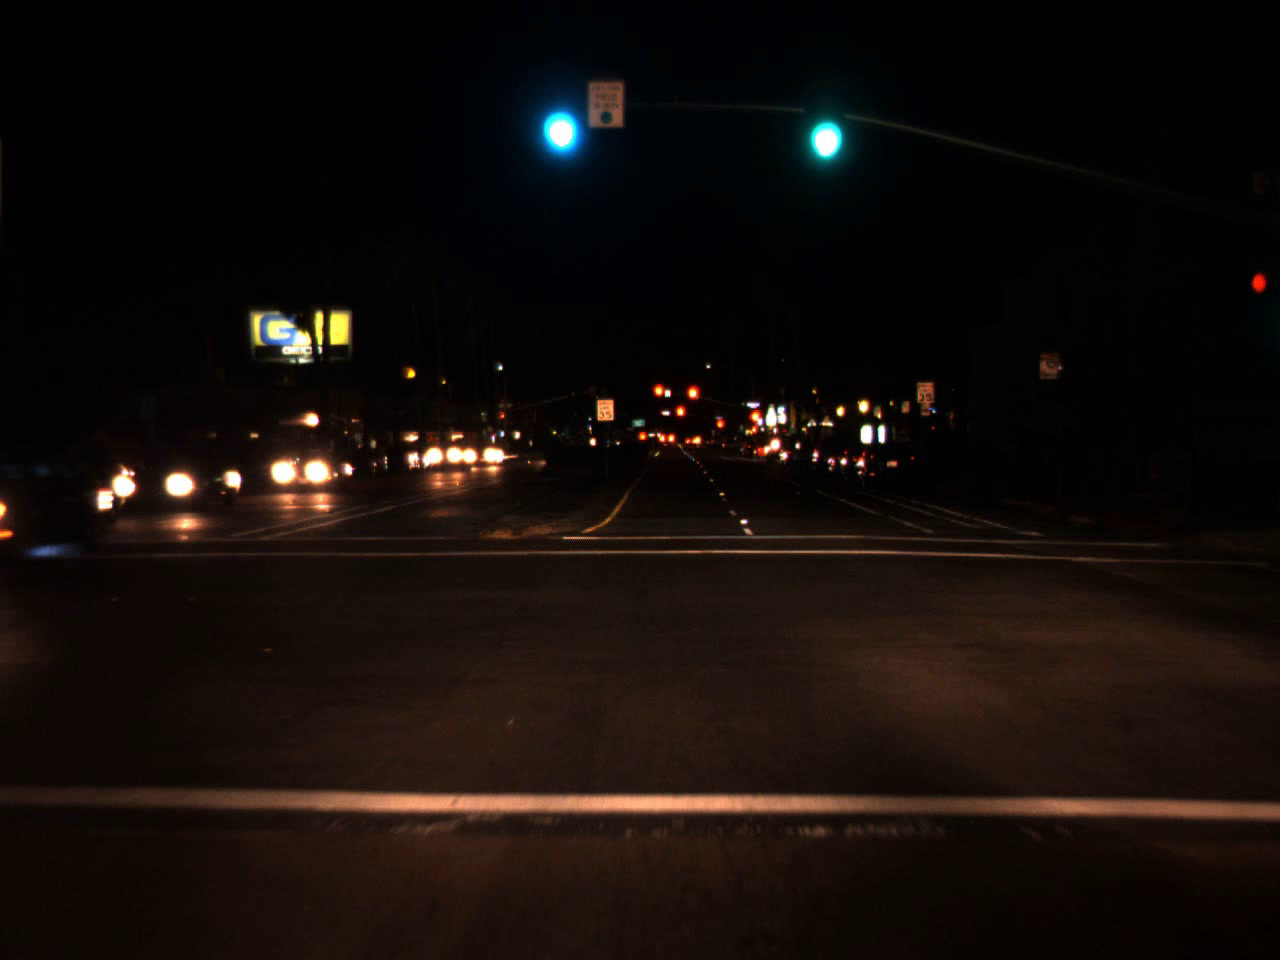go: (800, 83, 845, 170), (539, 86, 578, 158)
stop: (685, 384, 700, 416), (651, 382, 667, 411), (675, 404, 685, 428), (715, 418, 725, 439), (750, 412, 759, 430), (499, 413, 505, 423)
